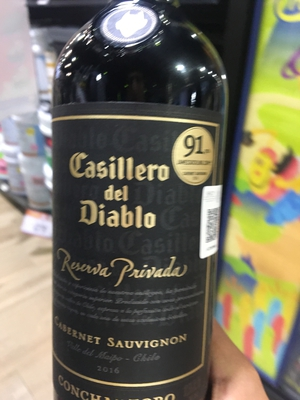casillero del diablo reserva privada cabernet sauvignon: (42, 10, 241, 400)
